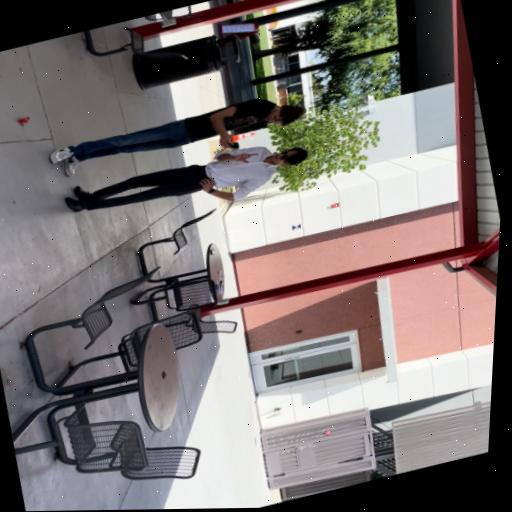target6: (292, 223, 302, 230)
